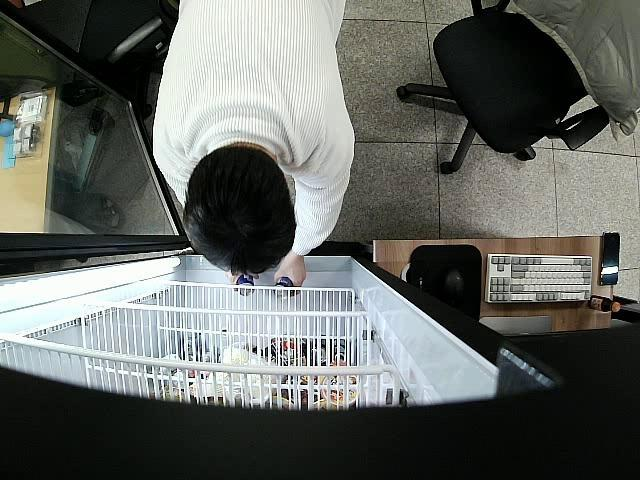16_hot6: (273, 274, 294, 299), (235, 274, 255, 298)
